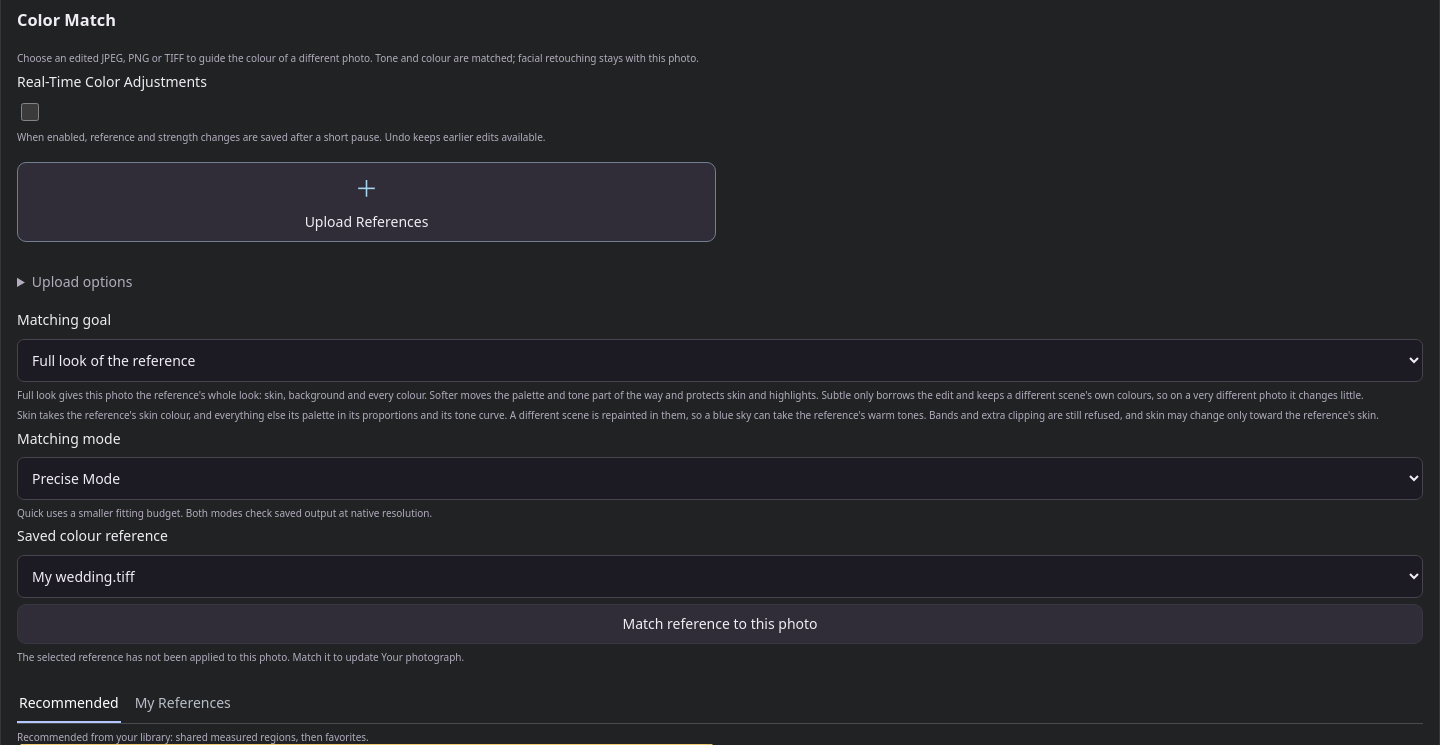
Test case: opens on the exact colours goal and requires a new analysis for reference palette and tone
Select "Softer: palette and tone" in the dropdown labelled "Matching goal" at [720, 360], box [17,339,1423,382]
(page scrolled)
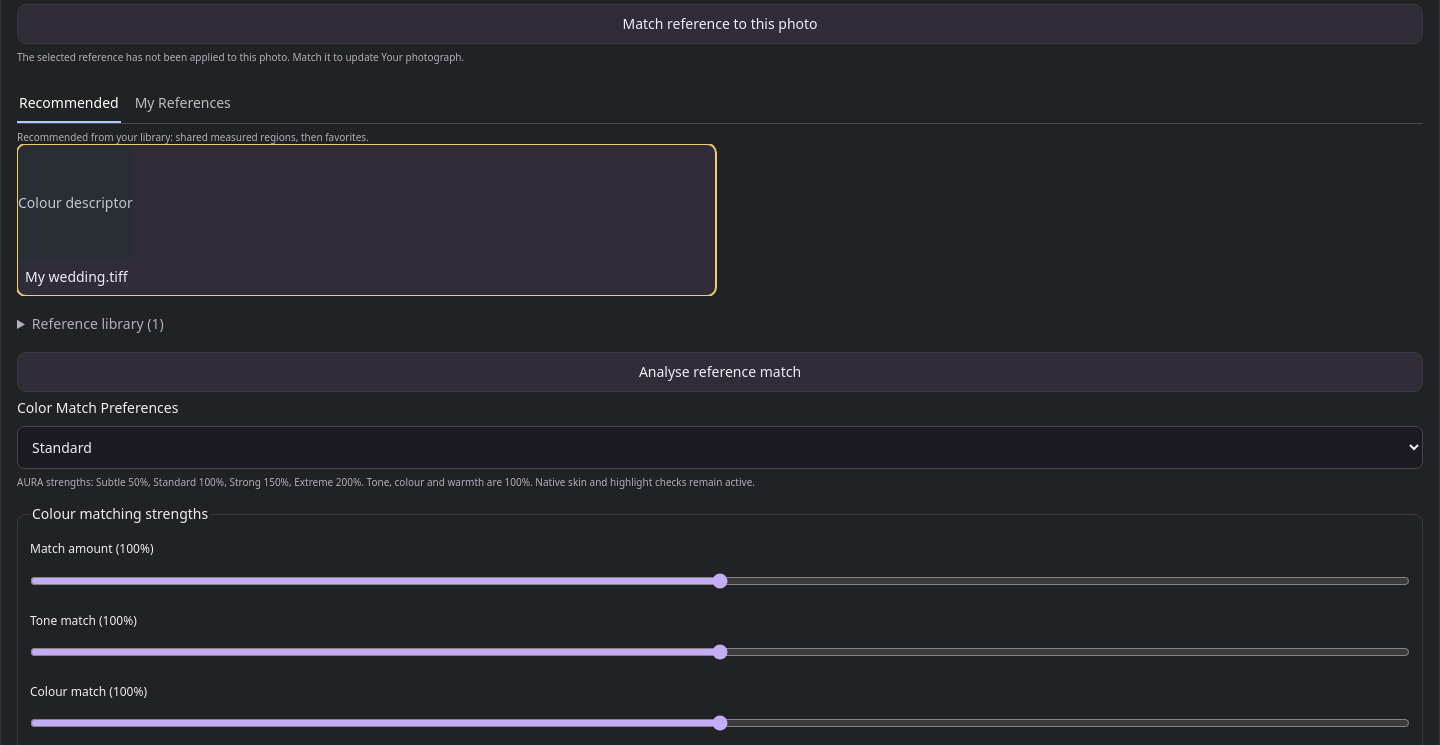
Click the button "Analyse reference match" at [720, 372], box [17,352,1423,392]
(page scrolled)
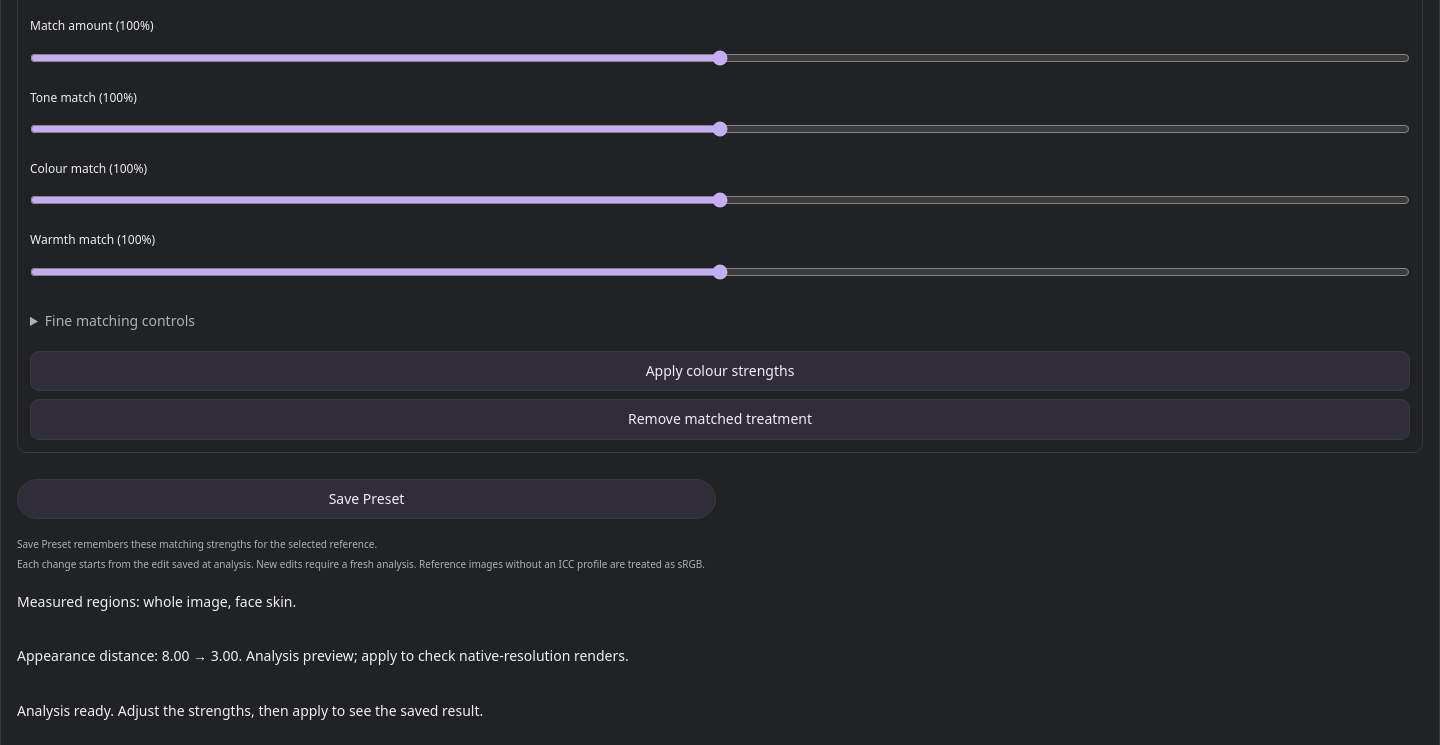
Expected: the button "Apply colour strengths" is enabled, [30,351,1410,391]
